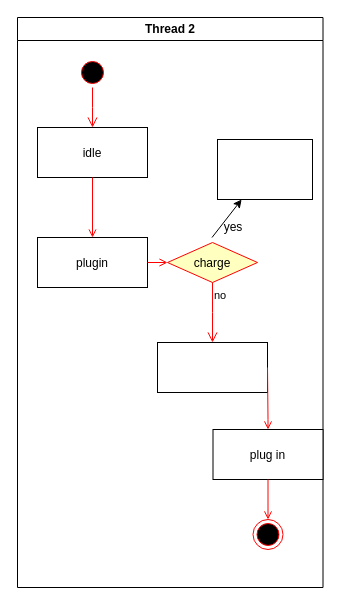
The diagram is 341 pixels wide and 605 high, and some of its shapes have lost their labels. Here are the shapes that lost their labels. From the top down, the centre of each, then its label:
the point at 264,169: charging
the point at 212,367: no suff. power
